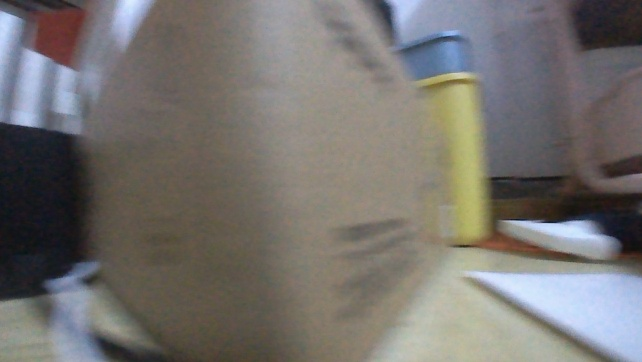blanket: (460, 261, 641, 361)
